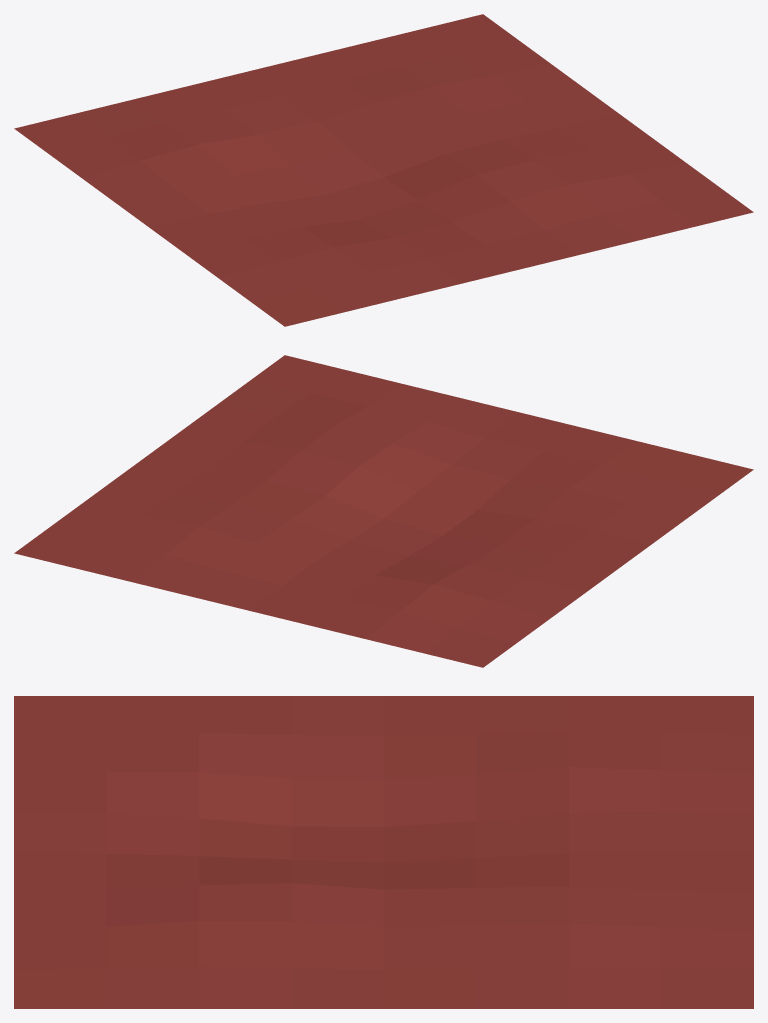
Rendered from Terrain_12_Red.fbx.
3 renders of one model, top to bottom at view 1: azimuth 30°, elevation 25°; view 2: azimuth 150°, elevation 25°; view 3: azimuth 270°, elevation 25°, orthographic. The views are drawn at different scales.
Parts seen in each view (by area): view 1: Terrain_12_Red; view 2: Terrain_12_Red; view 3: Terrain_12_Red.
Boxes of the visible parts, x1,y1,x2,y2 form: Terrain_12_Red: [14, 14, 753, 326]; Terrain_12_Red: [14, 355, 753, 667]; Terrain_12_Red: [14, 696, 753, 1008].
Bounding box in the file's own units: 5000 × 175 × 5000.
